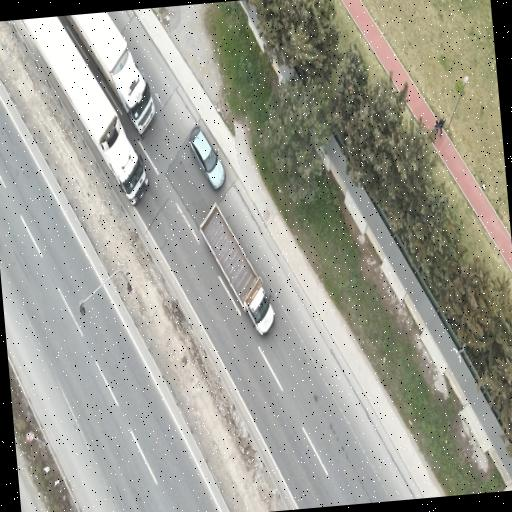car: (188, 126, 224, 189)
person: (432, 118, 441, 136), (439, 118, 447, 136)
truck: (23, 17, 147, 204), (67, 12, 154, 136), (199, 203, 273, 334)
